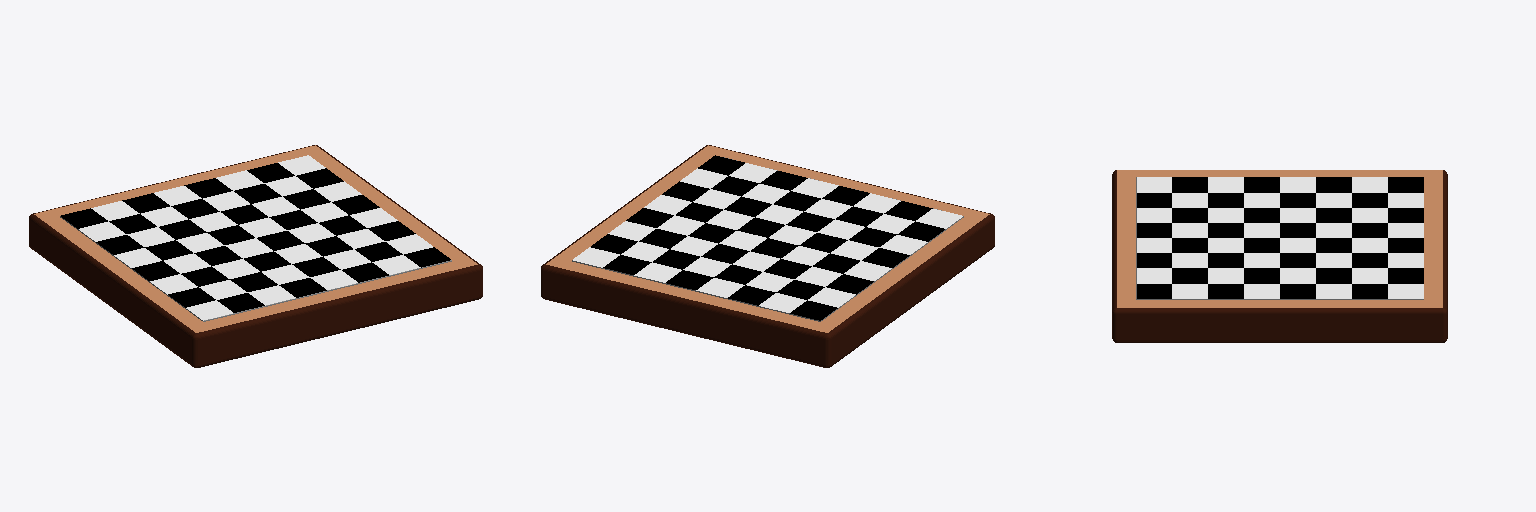
3 renders of one model, left to right at view 1: azimuth 30°, elevation 25°; view 2: azimuth 150°, elevation 25°; view 3: azimuth 270°, elevation 25°, orthographic.
Parts seen in each view (by area): view 1: Chessboard, Chessboard_BOX; view 2: Chessboard, Chessboard_BOX; view 3: Chessboard, Chessboard_BOX.
Boxes of the visible parts, x1=… form: Chessboard: x1=60, y1=155, x2=451, y2=321; Chessboard_BOX: x1=29, y1=145, x2=482, y2=367; Chessboard: x1=572, y1=155, x2=963, y2=321; Chessboard_BOX: x1=541, y1=145, x2=994, y2=367; Chessboard: x1=1136, y1=177, x2=1423, y2=299; Chessboard_BOX: x1=1112, y1=170, x2=1447, y2=342.
Size of the model in its own units: 13.78 by 1.63 by 13.78.
Materials: 4 (1 with a texture image).